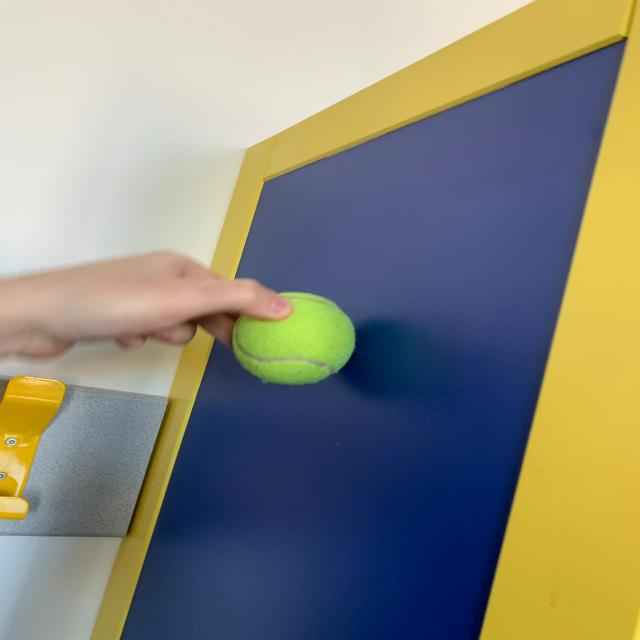Tennis-Ball: (232, 283, 364, 398)
